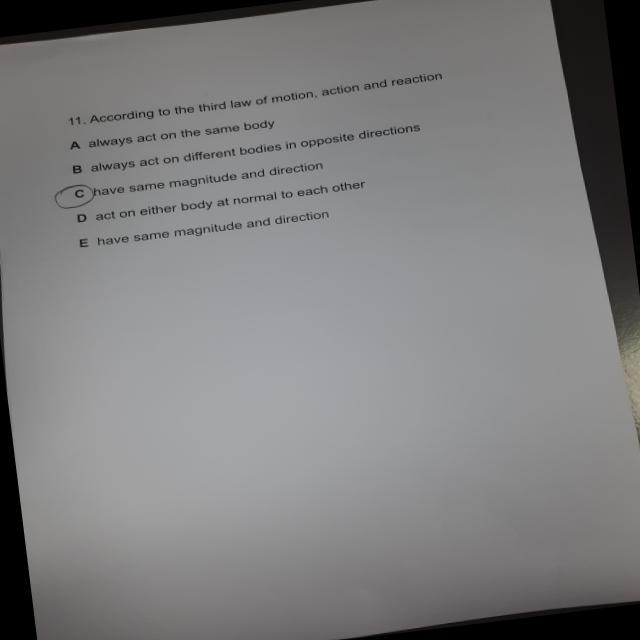C: (52, 182, 101, 216)
